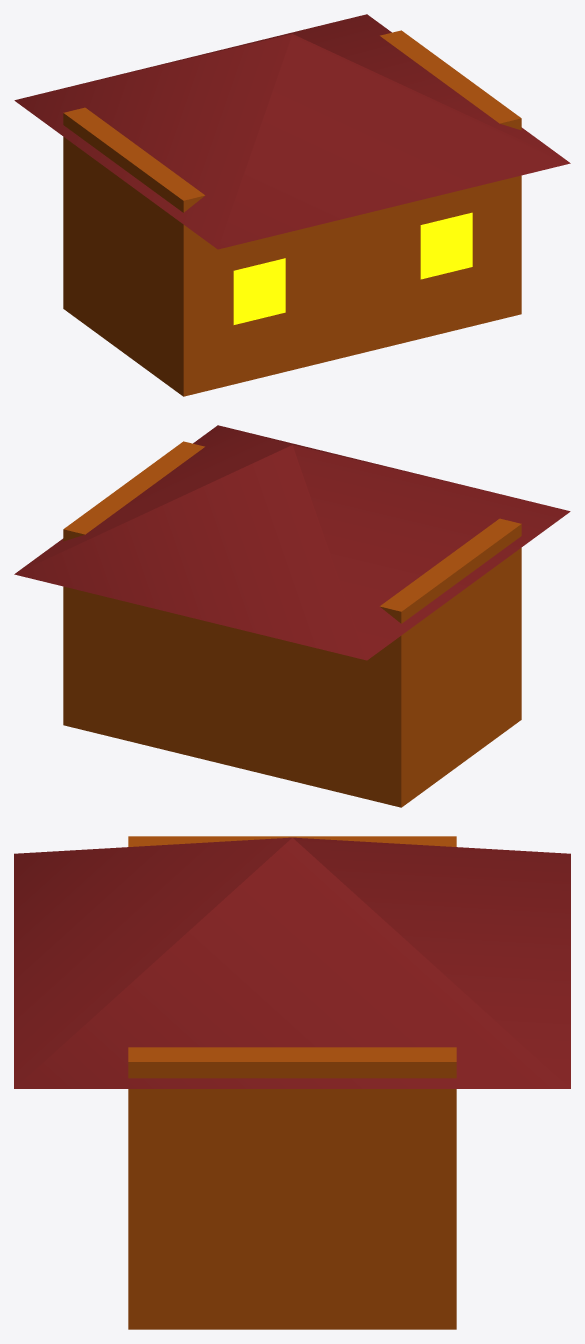
File: house.glb
3 renders of one model, top to bottom at view 1: azimuth 30°, elevation 25°; view 2: azimuth 150°, elevation 25°; view 3: azimuth 270°, elevation 25°, orthographic. The views are drawn at different scales.
Bounding box in the file's own units: 6.79 × 5.1 × 6.79.
